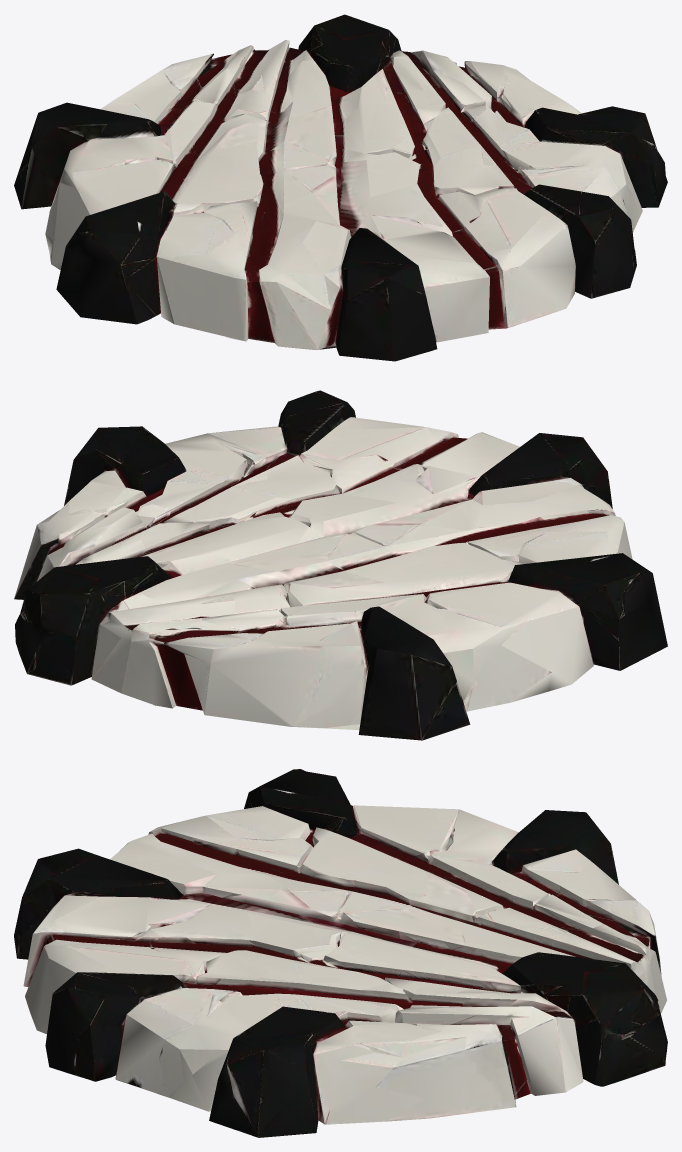
The model's file is dais.glb.
3 renders of one model, top to bottom at view 1: azimuth 30°, elevation 25°; view 2: azimuth 150°, elevation 25°; view 3: azimuth 270°, elevation 25°, orthographic. The views are drawn at different scales.
Visible parts, largest first — view 1: mesh_node; view 2: mesh_node; view 3: mesh_node.
Part boxes in pixels (x1,y1,x2,y2): mesh_node: (14, 14, 667, 361); mesh_node: (14, 390, 667, 740); mesh_node: (14, 769, 667, 1137).
Bounding box in the file's own units: 1.9 × 0.2373 × 1.75.
1 material, 1 textured.
